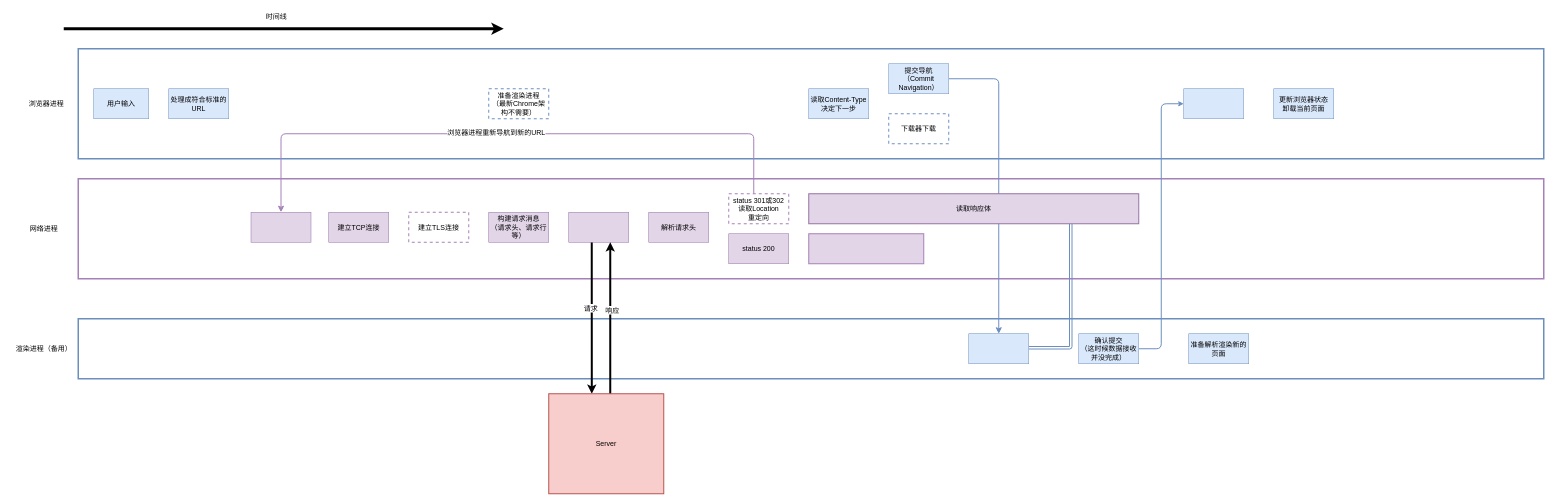
This 1553x503 diagram has some shape labels left out. Each missing label, with the box of its shape:
DNS请求 获取IP地址: (250, 212, 311, 242)
发起HTTP请求: (568, 212, 629, 242)
接收导航消息 与网络进程建立管道: (968, 333, 1029, 364)
接收确认提交消息: (1183, 88, 1244, 119)
网络进程对响应体进行安全检查: (808, 233, 924, 264)
